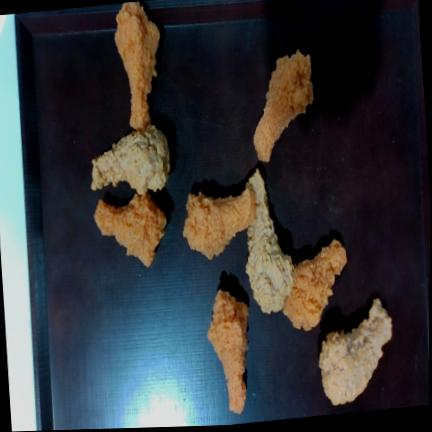chicken: (318, 298, 391, 404), (245, 169, 293, 313), (253, 49, 313, 161), (282, 239, 346, 330), (114, 1, 159, 130), (182, 184, 255, 259), (91, 124, 169, 194), (94, 192, 166, 266), (207, 290, 247, 413)
